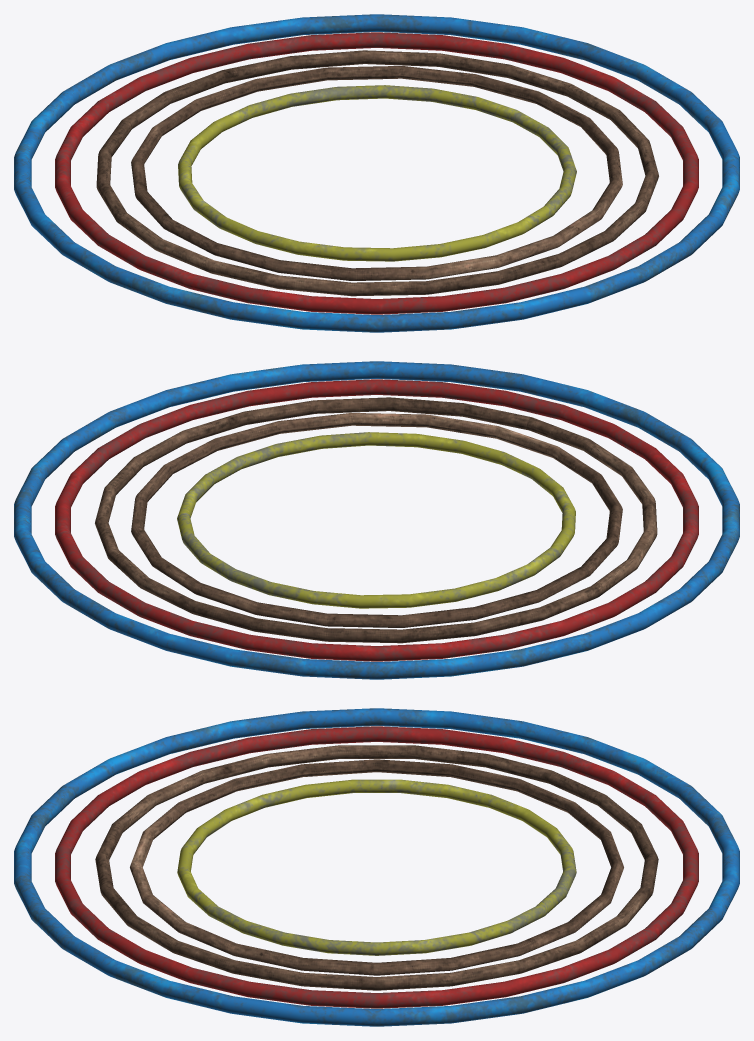
File: hula_Hoops.fbx
3 views of the same model, one above another, from view 1: azimuth 30°, elevation 25°; view 2: azimuth 150°, elevation 25°; view 3: azimuth 270°, elevation 25° (orthographic).
Parts seen in each view (by area): view 1: cm_90, cm_80, cm_70, cm_60, cm_50; view 2: cm_90, cm_80, cm_70, cm_60, cm_50; view 3: cm_90, cm_80, cm_70, cm_60, cm_50.
Boxes of the visible parts, <box> form: cm_90: <box>14,14,739,332</box>; cm_80: <box>55,32,698,314</box>; cm_70: <box>96,50,658,296</box>; cm_60: <box>131,66,622,280</box>; cm_50: <box>178,85,576,261</box>; cm_90: <box>14,361,739,679</box>; cm_80: <box>55,379,698,661</box>; cm_70: <box>95,397,657,643</box>; cm_60: <box>131,413,622,627</box>; cm_50: <box>177,432,575,608</box>; cm_90: <box>14,708,739,1026</box>; cm_80: <box>55,726,698,1008</box>; cm_70: <box>95,745,658,990</box>; cm_60: <box>130,759,623,975</box>; cm_50: <box>177,779,576,955</box>.
Bounding box in the file's own units: 90.67 × 2.1 × 90.17.
